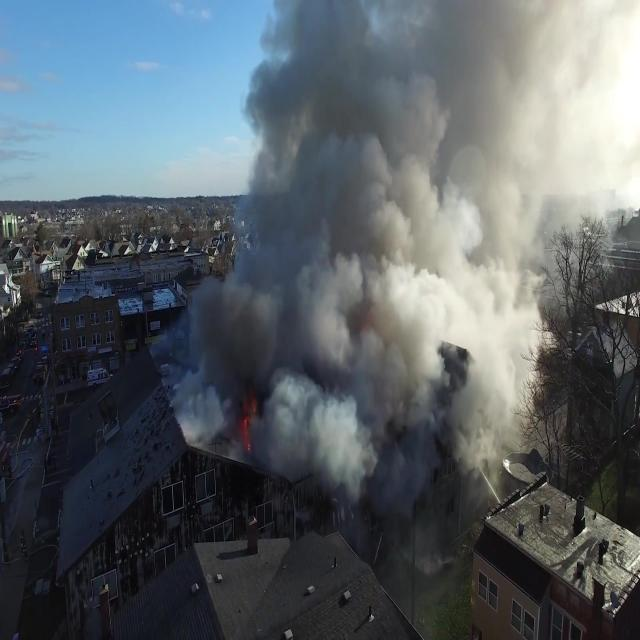Fire: (236, 378, 265, 454)
Smoke: (178, 0, 570, 451)
